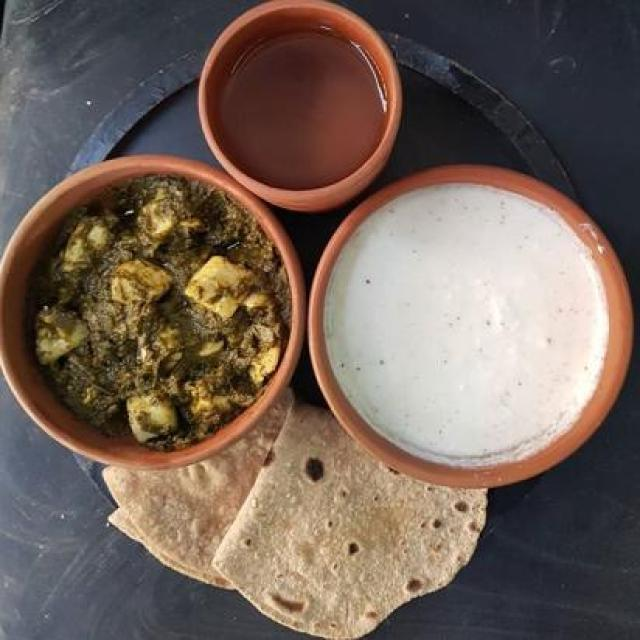alooparatha-chapati: (221, 458, 498, 618)
palakpaneer: (42, 182, 284, 448)
